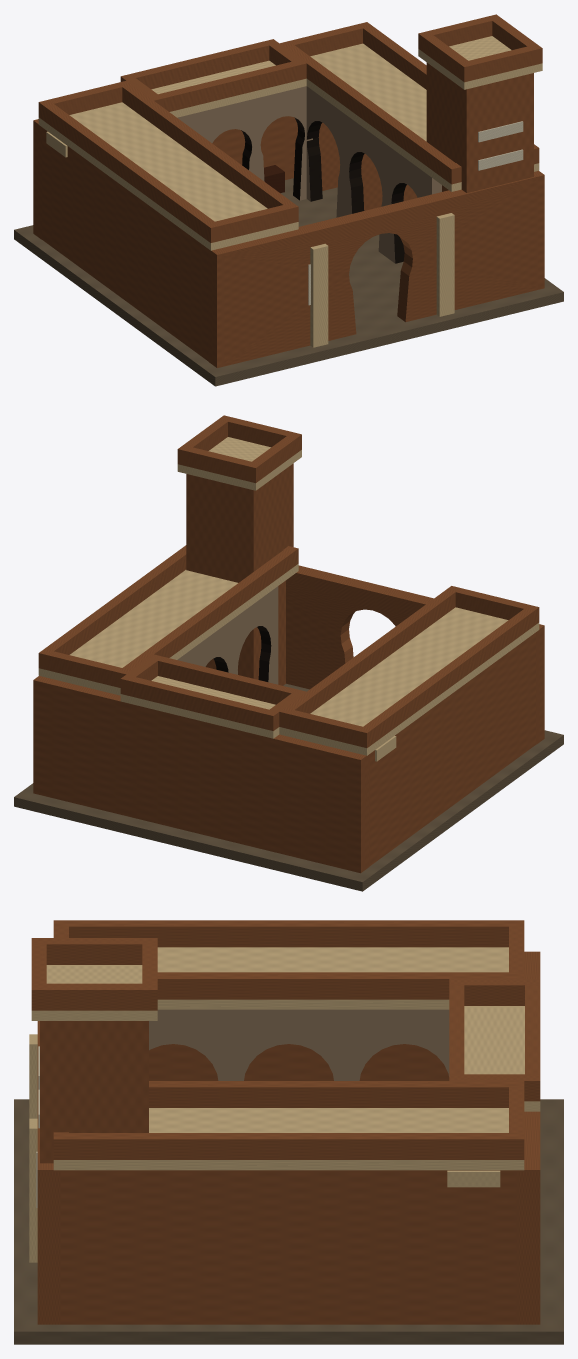
The model's file is Berber_Ribat_Age3.fbx.
3 renders of one model, top to bottom at view 1: azimuth 30°, elevation 25°; view 2: azimuth 150°, elevation 25°; view 3: azimuth 270°, elevation 25°, orthographic. The views are drawn at different scales.
Visible parts, largest first — view 1: south_single_entry_wall, outer_cell_wall_-2.6, foundation, cells_flat_roof_-2.6, attached_signal_watchtower, cell_arcade_2.6, cells_flat_roof_2.6, council_hall_arcade, cells_flat_roof_-2.6_parapet, cells_flat_roof_-2.6_parapet.001, cells_flat_roof_2.6_parapet, rear_devotional_hall (+19 smaller); view 2: rear_devotional_hall, outer_cell_wall_-2.6, attached_signal_watchtower, foundation, south_single_entry_wall, cells_flat_roof_-2.6, cells_flat_roof_2.6, cells_flat_roof_-2.6_parapet, cell_arcade_2.6, cells_flat_roof_-2.6_parapet.001, cells_flat_roof_2.6_parapet, cells_flat_roof_2.6_parapet.001 (+12 smaller); view 3: outer_cell_wall_2.6, foundation, cell_arcade_-2.6, cells_flat_roof_2.6, cells_flat_roof_2.6_parapet.001, attached_signal_watchtower, cells_flat_roof_-2.6, cells_flat_roof_-2.6_parapet, cells_flat_roof_2.6_parapet, cells_flat_roof_-2.6_parapet.001, outer_cell_wall_-2.6, rear_devotional_hall (+16 smaller).
Part boxes in pixels (box(x1,y1,x2,y2)): south_single_entry_wall: box(208, 170, 544, 367); outer_cell_wall_-2.6: box(41, 127, 208, 361); foundation: box(14, 178, 563, 386); cells_flat_roof_-2.6: box(38, 102, 298, 250); attached_signal_watchtower: box(426, 62, 533, 192); cell_arcade_2.6: box(306, 86, 441, 263); cells_flat_roof_2.6: box(306, 43, 539, 191); council_hall_arcade: box(177, 86, 312, 200); cells_flat_roof_-2.6_parapet: box(38, 100, 220, 242); cells_flat_roof_-2.6_parapet.001: box(117, 80, 298, 223); cells_flat_roof_2.6_parapet: box(280, 41, 461, 184); rear_devotional_hall: box(33, 116, 297, 239); rear_devotional_hall: box(33, 676, 369, 873); outer_cell_wall_-2.6: box(369, 632, 536, 866); attached_signal_watchtower: box(186, 463, 293, 685); foundation: box(14, 683, 563, 891); south_single_entry_wall: box(286, 565, 544, 744); cells_flat_roof_-2.6: box(279, 607, 539, 755); cells_flat_roof_2.6: box(38, 564, 298, 695); cells_flat_roof_-2.6_parapet: box(357, 605, 539, 747); cell_arcade_2.6: box(177, 586, 278, 684); cells_flat_roof_-2.6_parapet.001: box(279, 586, 460, 728); cells_flat_roof_2.6_parapet: box(116, 546, 298, 687); cells_flat_roof_2.6_parapet.001: box(38, 545, 186, 670); outer_cell_wall_2.6: box(60, 1170, 517, 1324); foundation: box(14, 1099, 563, 1344); cell_arcade_-2.6: box(149, 1009, 449, 1080); cells_flat_roof_2.6: box(53, 1108, 524, 1170); cells_flat_roof_2.6_parapet.001: box(53, 1133, 524, 1159); attached_signal_watchtower: box(40, 1021, 148, 1163); cells_flat_roof_-2.6: box(157, 947, 508, 1009); cells_flat_roof_-2.6_parapet: box(53, 920, 524, 947); cells_flat_roof_2.6_parapet: box(149, 1081, 524, 1107); cells_flat_roof_-2.6_parapet.001: box(157, 972, 524, 999); outer_cell_wall_-2.6: box(149, 1044, 449, 1080); rear_devotional_hall: box(517, 951, 540, 1324).
Size of the model in its own units: 580 by 401 by 580.
6 materials, 6 textured.
